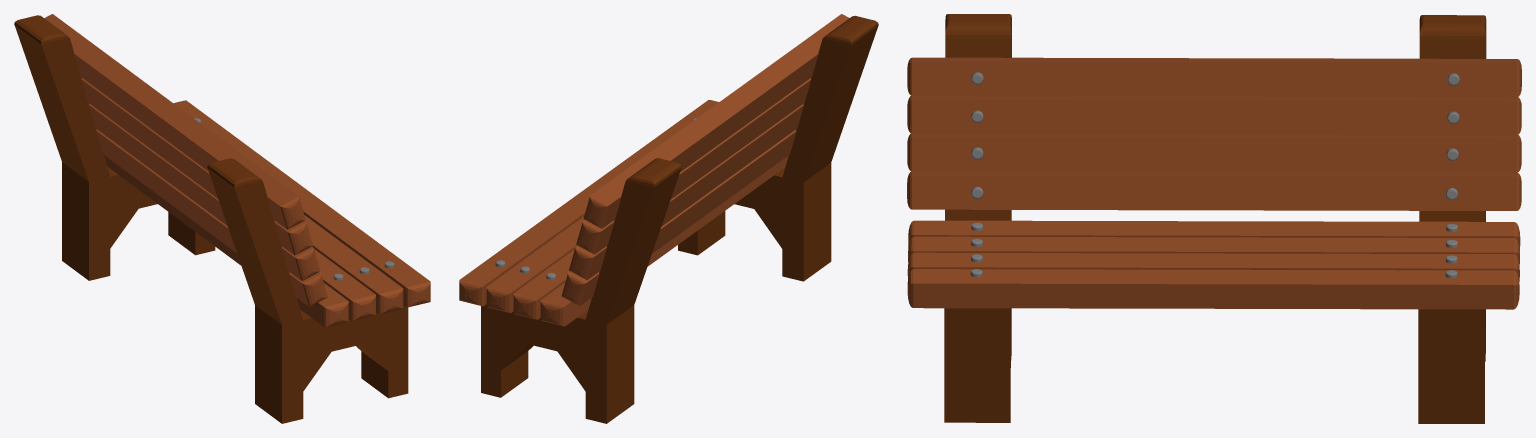
Rendered from klupa 5.fbx.
3 renders of one model, left to right at view 1: azimuth 30°, elevation 25°; view 2: azimuth 150°, elevation 25°; view 3: azimuth 270°, elevation 25°, orthographic. The views are drawn at different scales.
Parts seen in each view (by area): view 1: Cube.012; view 2: Cube.012; view 3: Cube.012.
Part boxes in pixels (x1=…): Cube.012: x1=14, y1=14, x2=430, y2=423; Cube.012: x1=459, y1=14, x2=878, y2=423; Cube.012: x1=907, y1=14, x2=1521, y2=423.
Size of the model in its own units: 168 by 219 by 395.
